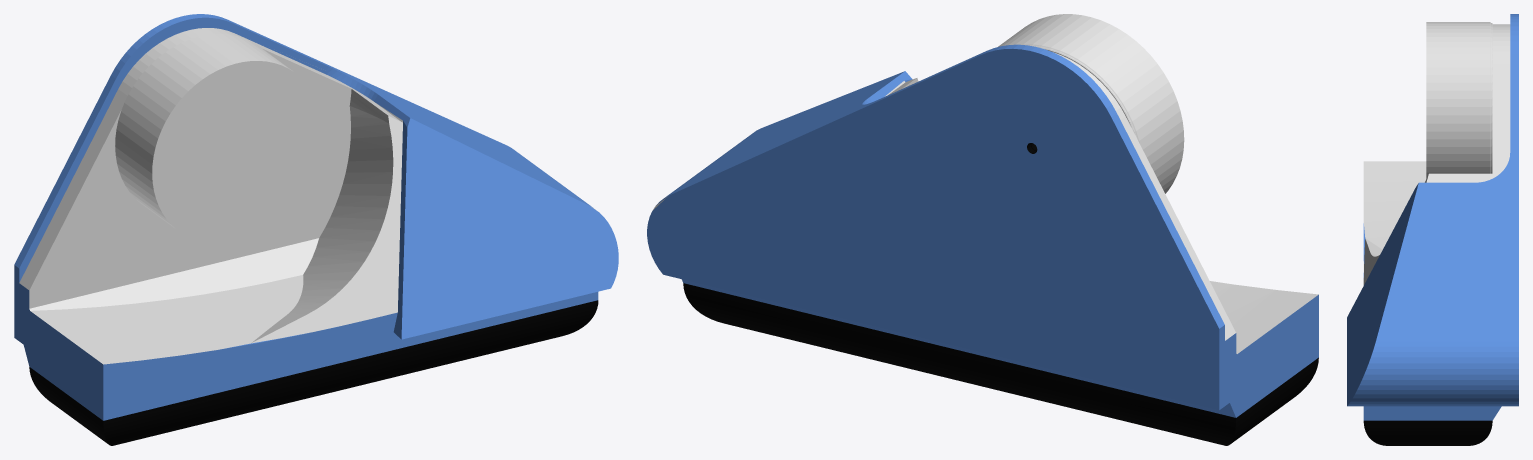
The model's file is left_foot.dae.
The picture shows the model from 3 angles, left to right: view 1: azimuth 30°, elevation 25°; view 2: azimuth 150°, elevation 25°; view 3: azimuth 270°, elevation 25°; orthographic projection. The views are drawn at different scales.
Visible parts, largest first — view 1: left_foot; view 2: left_foot; view 3: left_foot.
Part boxes in pixels (x1=…): left_foot: x1=14, y1=14, x2=618, y2=445; left_foot: x1=647, y1=14, x2=1318, y2=445; left_foot: x1=1347, y1=14, x2=1518, y2=445.
Bounding box in the file's own units: 176 × 58.74 × 113.
